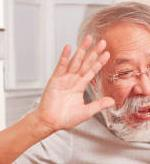down: (38, 34, 114, 129)
